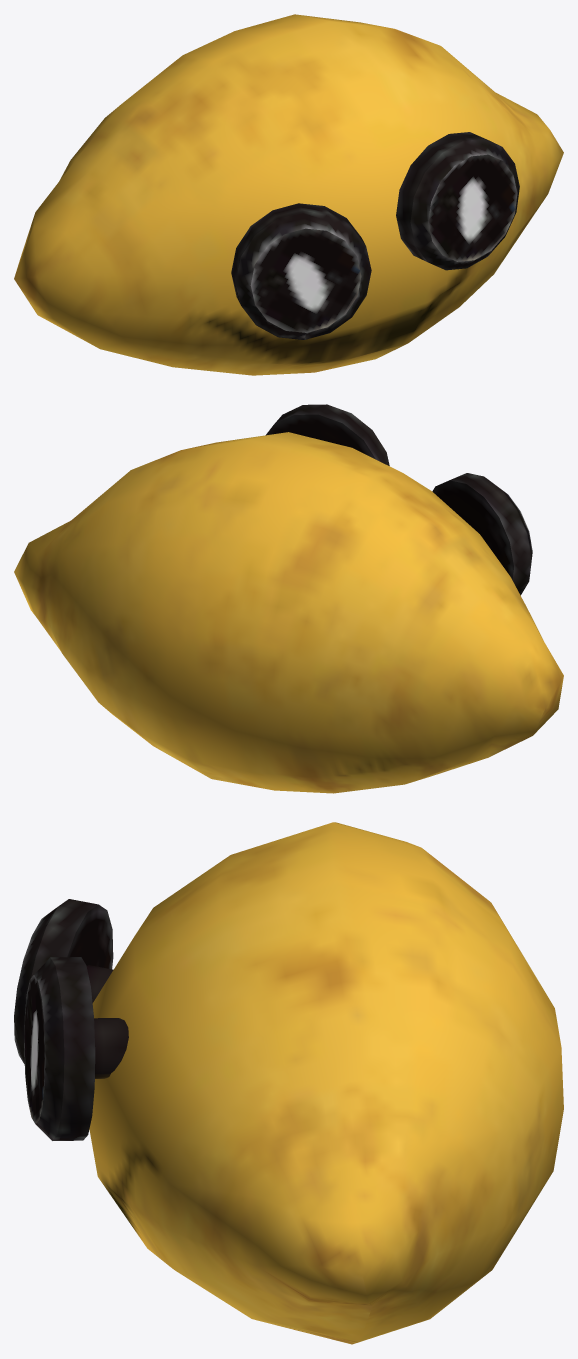
File: Limon.fbx
The picture shows the model from 3 angles, top to bottom: view 1: azimuth 30°, elevation 25°; view 2: azimuth 150°, elevation 25°; view 3: azimuth 270°, elevation 25°; orthographic projection. The views are drawn at different scales.
Parts seen in each view (by area): view 1: Limon; view 2: Limon; view 3: Limon.
Part boxes in pixels (x1,y1,x2,y2): Limon: (14,14,563,375); Limon: (14,404,563,793); Limon: (14,822,563,1344).
Bounding box in the file's own units: 239 × 141 × 160.
